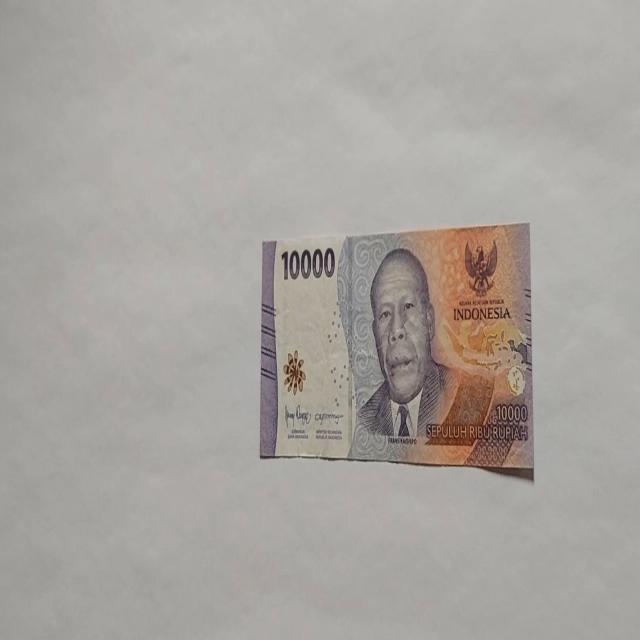sepuluh ribu rupiah: (259, 222, 533, 472), (346, 244, 461, 458)
